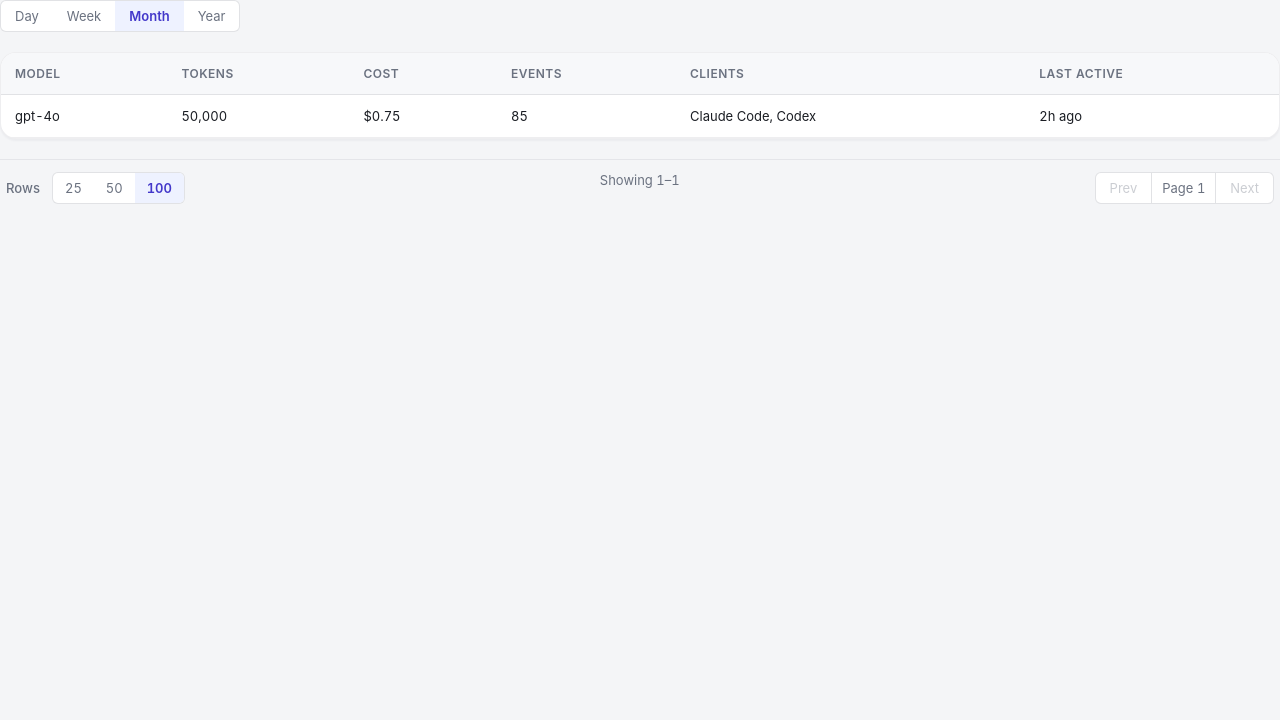
Test: ModelsPage › opens detail drawer when a row is clicked
Click the text "gpt-4o": point(84, 116) [1,94,167,138]
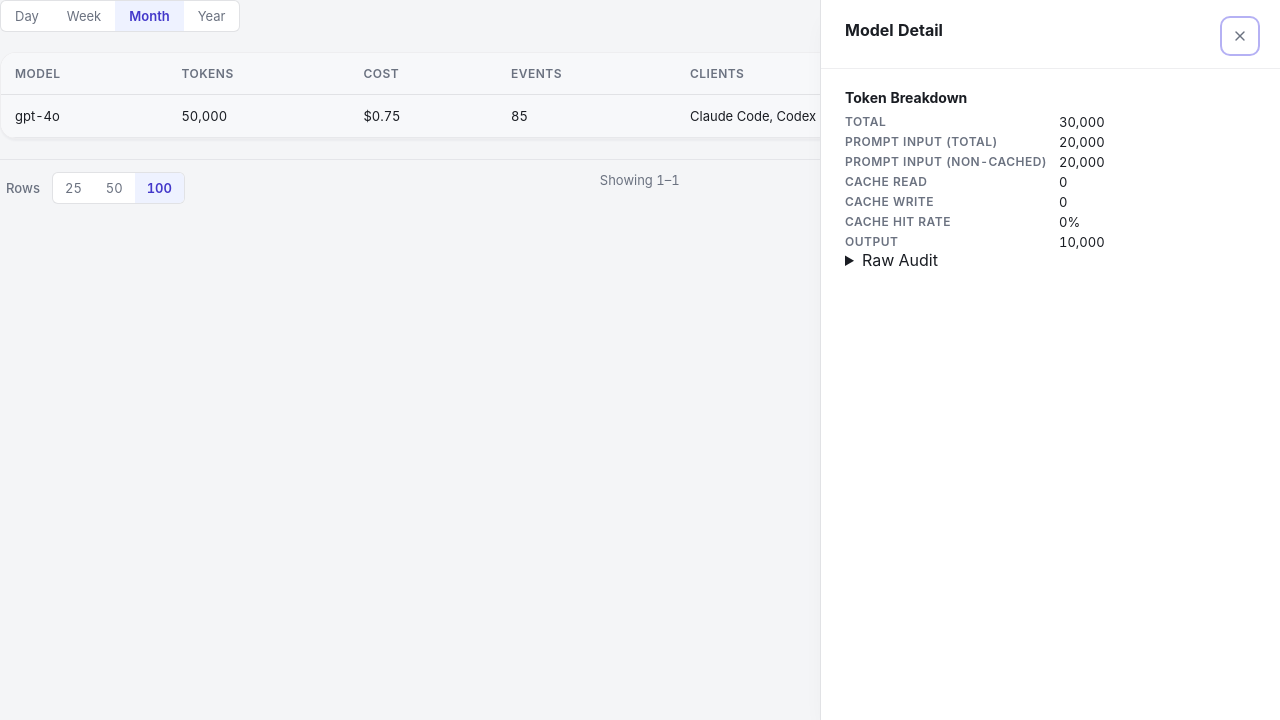
Now the heading "Model Detail" is shown, box [845,20,943,40]
Now the heading "Token Breakdown" is shown, box [845,89,967,106]
Now the text "30,000" is shown, box [1059,114,1105,130]
